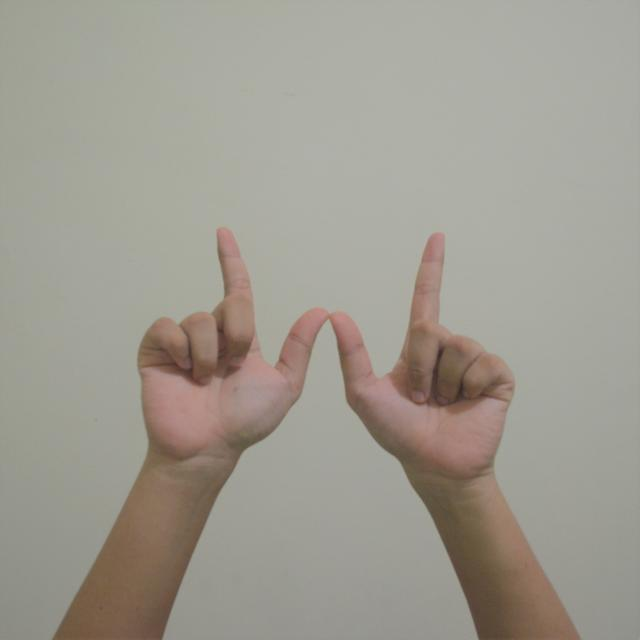W: (124, 215, 534, 483)
